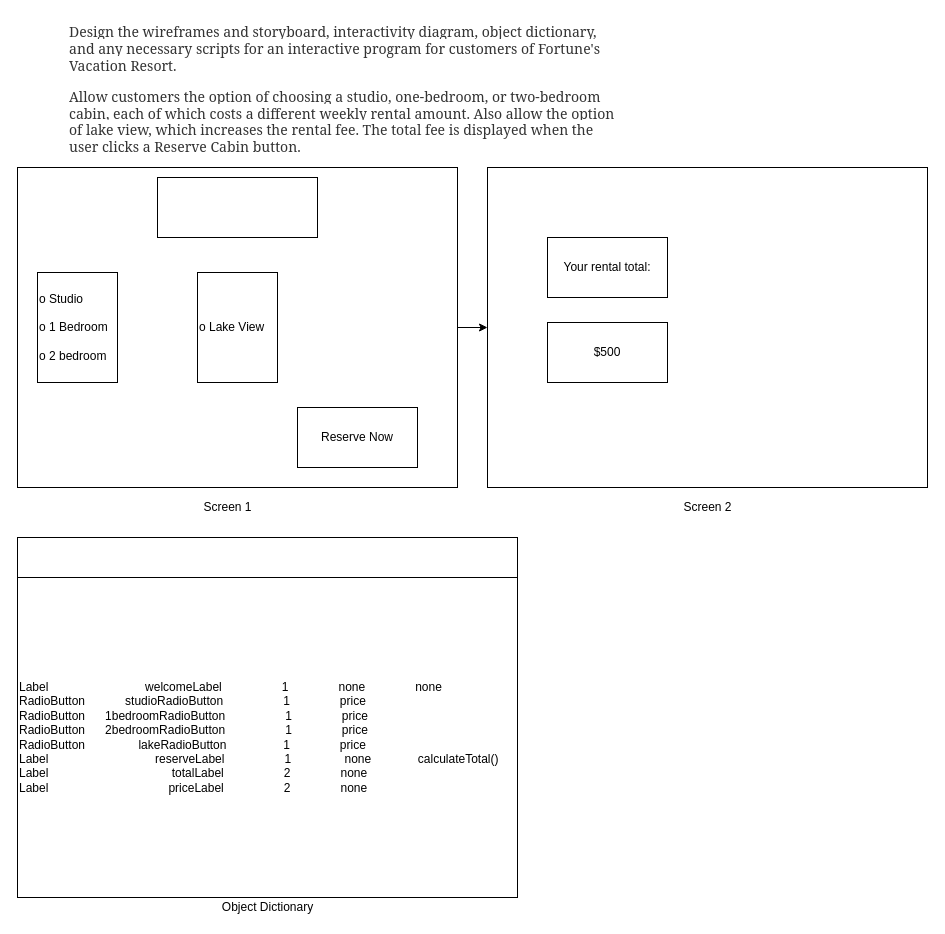
The diagram is 945 pixels wide and 934 high, and some of its shapes have lost their labels. The shapes that lost their labels are listed below. From the top down, each one's centre as x and y in pixels, then its label:
At (237,207): "Welcome to Fortune's Vacation Resort".
At (267,557): "Object Name Screen Variables Script".
